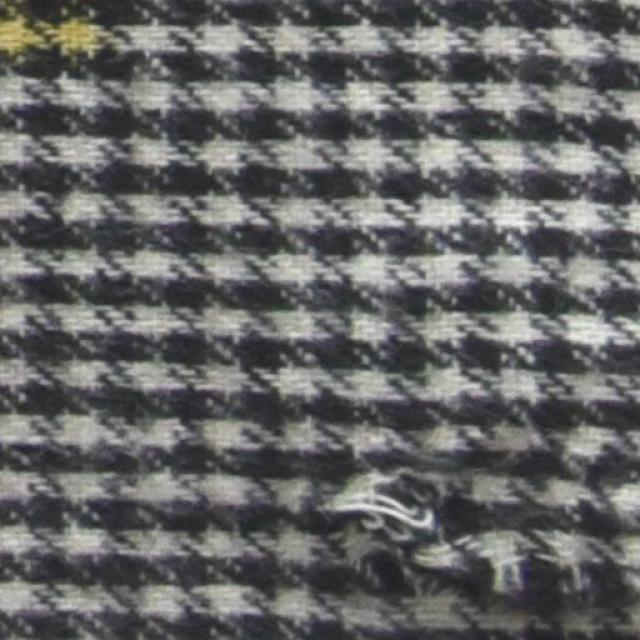Snag: (327, 414, 639, 634)
Stain: (0, 0, 109, 86)
